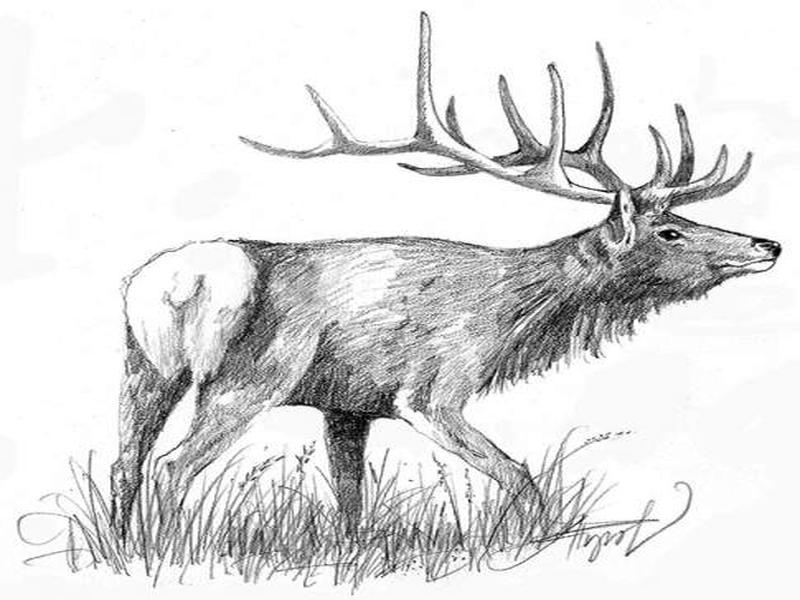elk: (98, 104, 785, 560)
